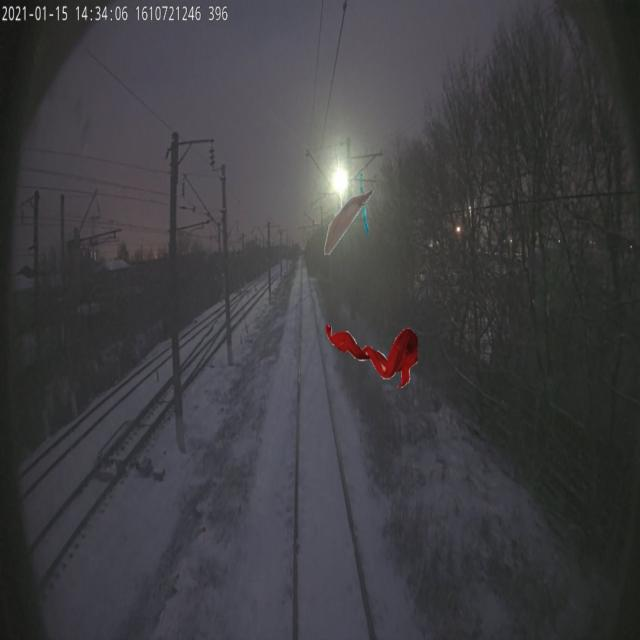floating object: (326, 310, 426, 400), (323, 191, 374, 255)
